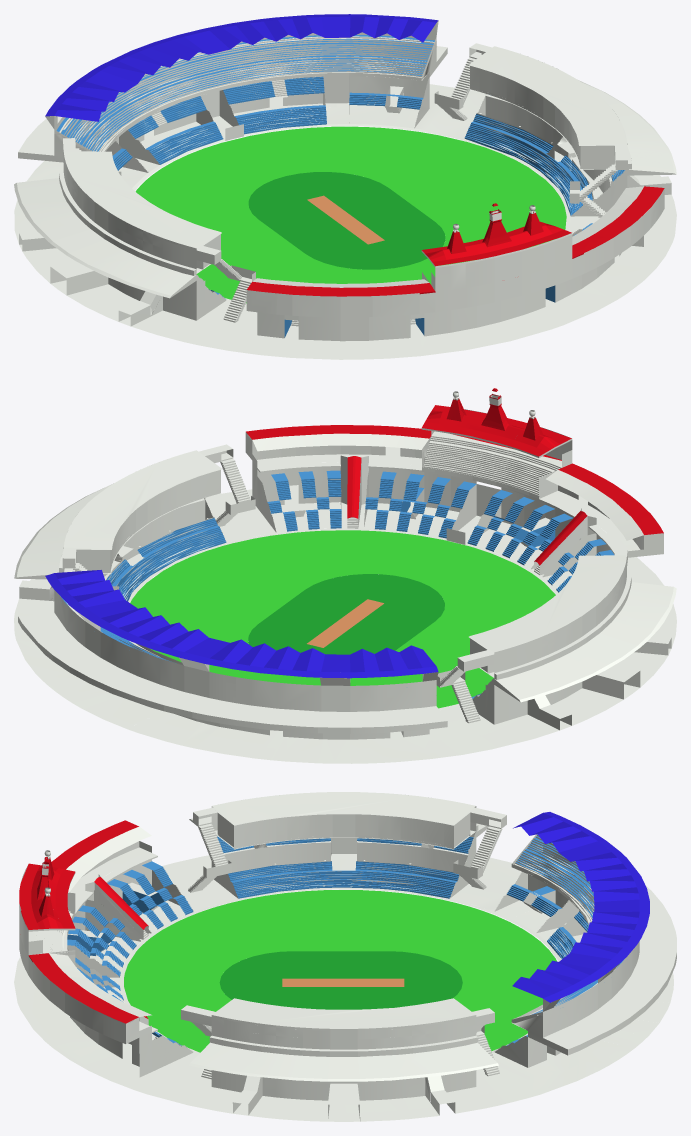
File: stadium.glb
3 views of the same model, one above another, from view 1: azimuth 30°, elevation 25°; view 2: azimuth 150°, elevation 25°; view 3: azimuth 270°, elevation 25° (orthographic).
Visible parts, largest first — view 1: stadium.001; view 2: stadium.001; view 3: stadium.001.
Boxes of the visible parts, x1,y1,x2,y2 form: stadium.001: (14,14,676,359); stadium.001: (14,388,676,763); stadium.001: (14,792,676,1121).
Bounding box in the file's own units: 390 × 81.55 × 392.
Materials: 1 (1 with a texture image).
